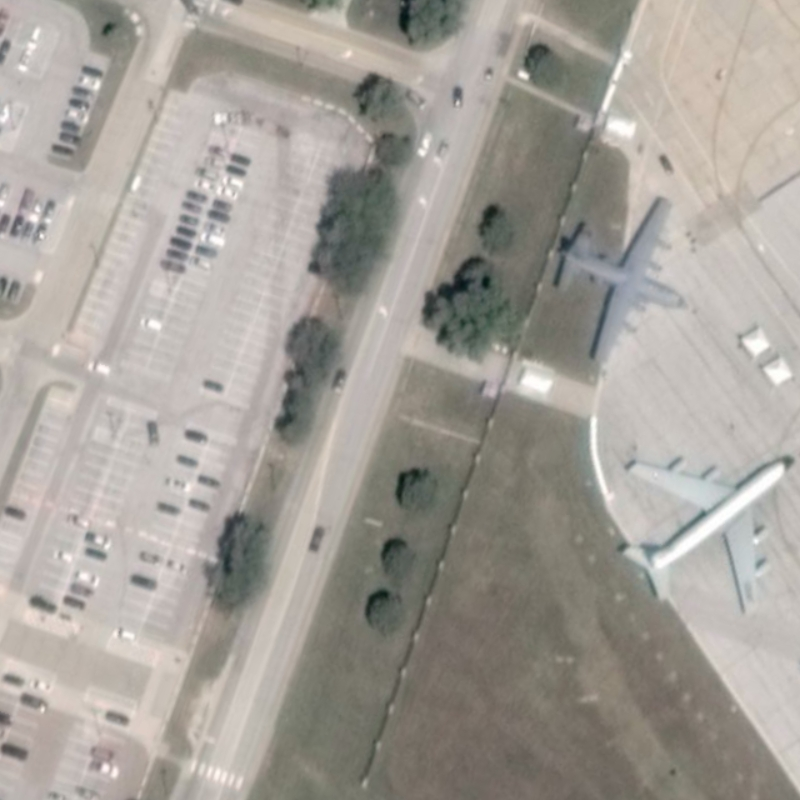A11: (614, 439, 799, 618)
A2: (545, 193, 706, 367)
